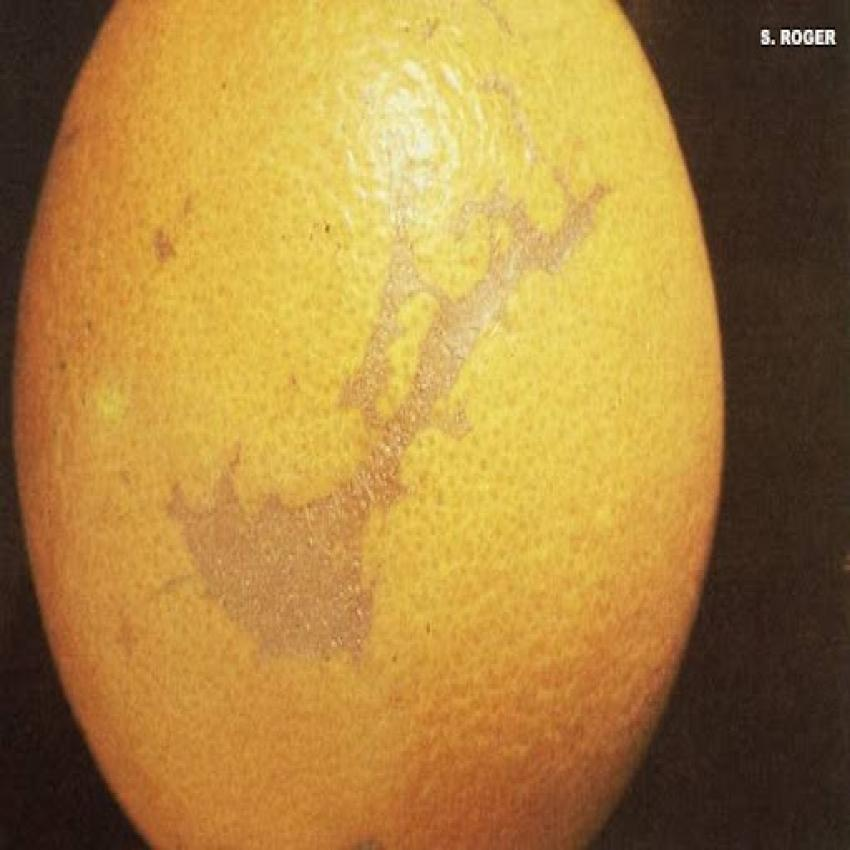Mal estado: (10, 0, 730, 828)
